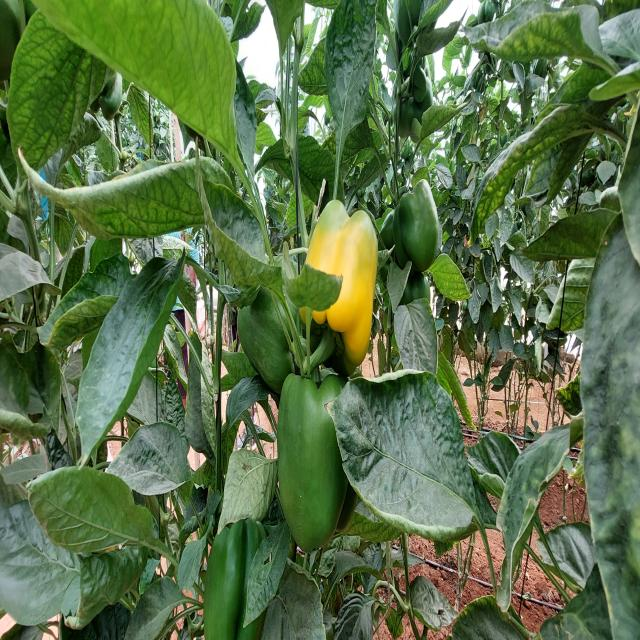Green--Not-ready-to-harvest: (262, 366, 372, 571)
GreenishYellow--Can-be-Harvested: (291, 167, 386, 363)
